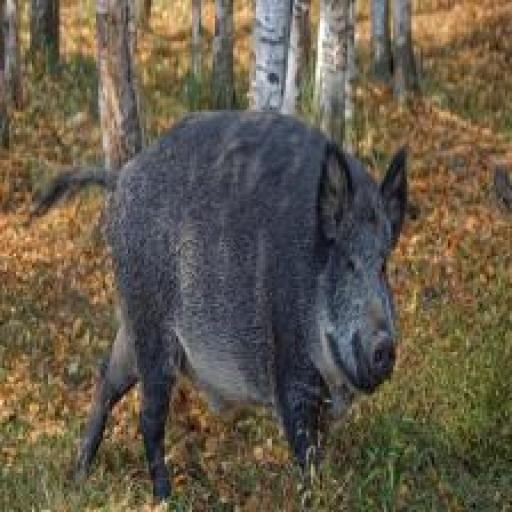Pig: (37, 94, 410, 499)
